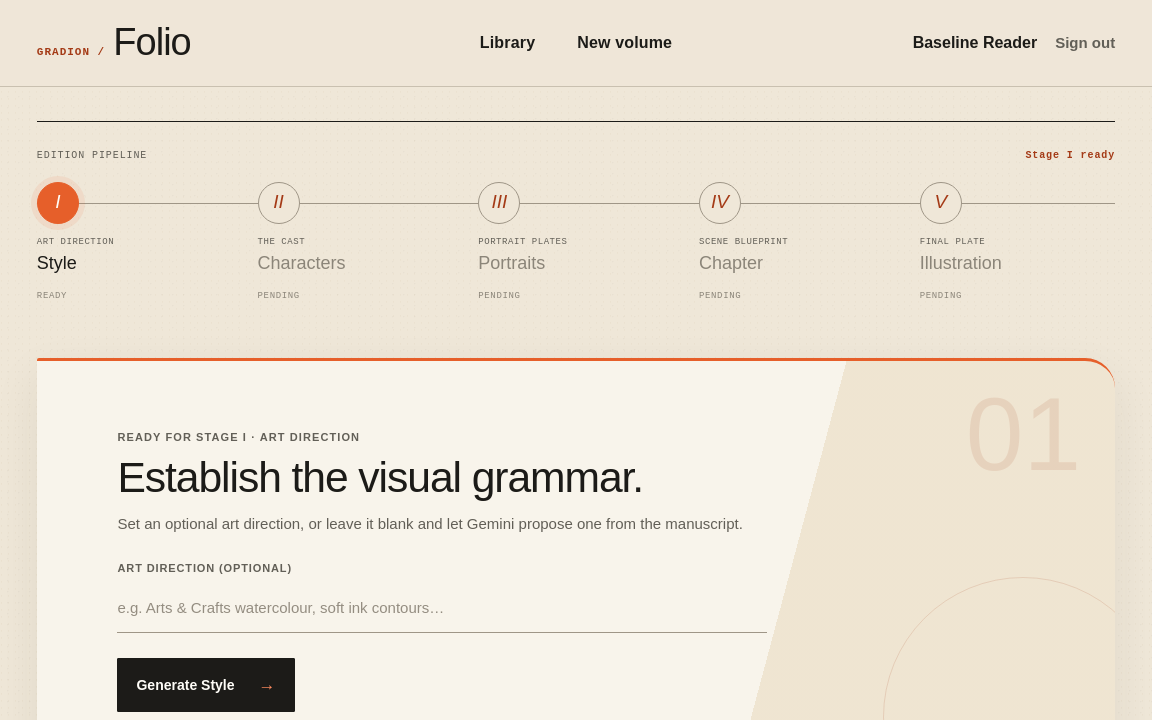
Test: StudioPage persisted state mapping › shows authoritative stuck state after STEP_STUCK reconciliation, never Retry
What coordinates should you click on to do the following:
click the button "Generate Style →"
I would click on:
 (206, 685)
Its box is [118,658,295,712].
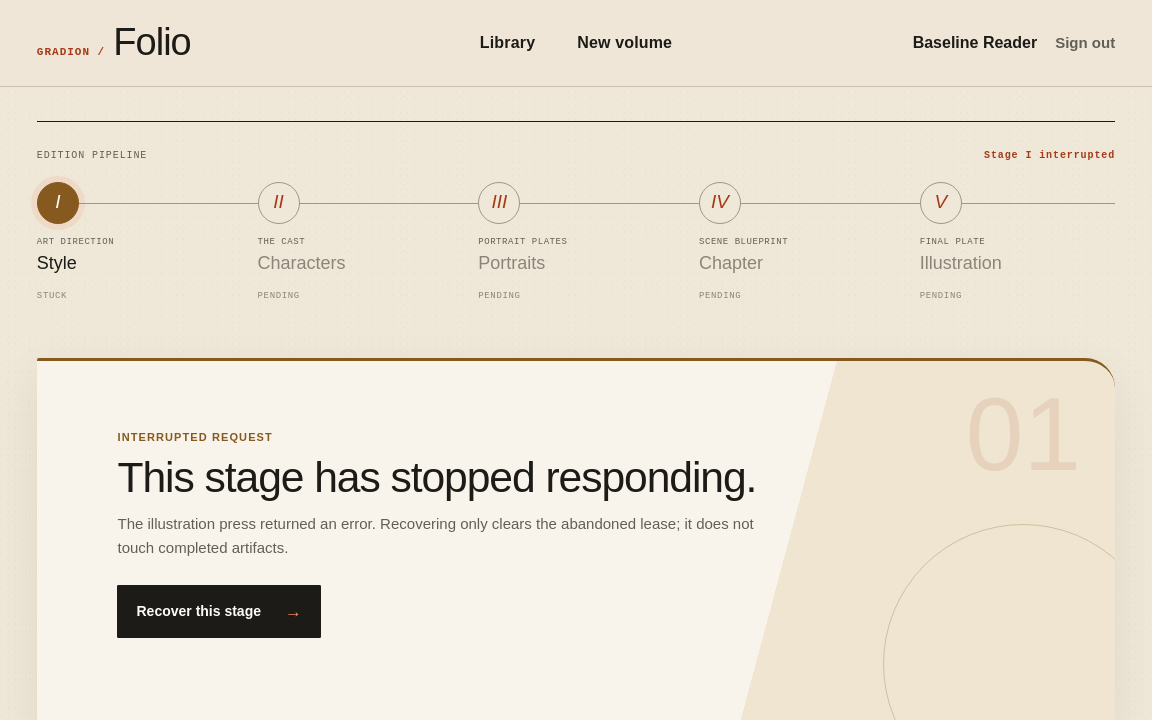
expect the button "Recover this stage →" is shown: met, box [118,585,321,638]
